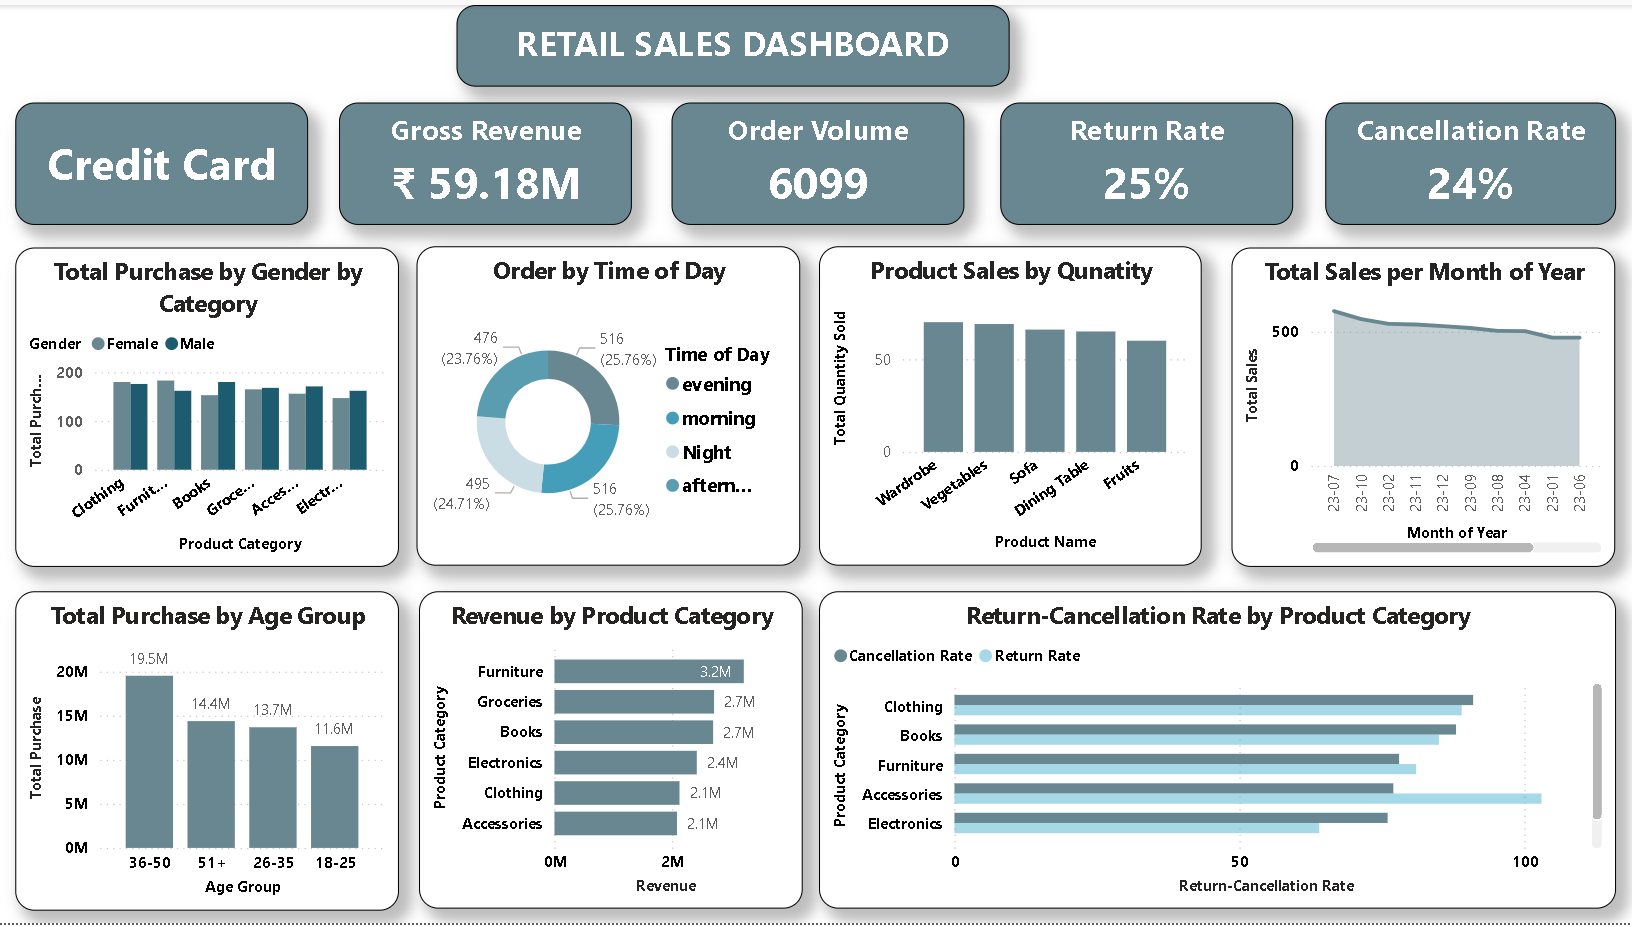

The page's visual inventory and layout, read from the dashboard file:
{"tool":"powerbi","page":{"name":"Retail Sales Dashboard","canvas":[1280,720],"ordinal":0},"visuals":[{"type":"textbox","box":[358.4,0,433.8,64],"z":0},{"type":"card","fields":{"Values":["Min(preferred_payment_mode.Column1)"]},"box":[12.5,76.5,229.6,96.1],"z":1000},{"type":"card","title":"Gross Revenue","fields":{"Values":["Sales_Analysis_dataset.Gross Revenue"]},"box":[267,76.5,229.6,96.1],"z":2000},{"type":"card","title":"Order Volume","fields":{"Values":["Sales_Analysis_dataset.ORDER VOLUME"]},"box":[526.8,76.5,229.6,96.1],"z":3000},{"type":"card","title":"Return Rate","fields":{"Values":["return_cancellation_rate_by_category.RETURN RATE"]},"box":[784.9,76.5,229.6,96.1],"z":4000},{"type":"card","title":"Cancellation Rate","fields":{"Values":["return_cancellation_rate_by_category.cancellation rate"]},"box":[1039.4,76.5,227.8,96.1],"z":5000},{"type":"clusteredColumnChart","title":"Total Purchase by Gender by Category","fields":{"Category":["purchasing_by_gender_by_category.product_category"],"Y":["Sum(purchasing_by_gender_by_category.total_purchase)"],"Series":["purchasing_by_gender_by_category.gender"]},"box":[12.5,190.4,300.8,250],"z":6000},{"type":"donutChart","title":"Order by Time of Day","fields":{"Category":["sales_by_time_of_the_date.time_of_date"],"Y":["Sum(sales_by_time_of_the_date.total_order)"]},"box":[327.5,188.7,300.8,250],"z":7000},{"type":"clusteredColumnChart","title":"Product Sales by Qunatity","fields":{"Category":["product_sales_by_qunatity.product_name"],"Y":["Sum(product_sales_by_qunatity.total_quantity_sold)"]},"box":[642.5,188.7,300,250],"z":8000},{"type":"lineChart","title":"Total Sales per Month of Year","fields":{"Category":["monthly_sales_trend.monthly_purchase"],"Y":["Sum(monthly_sales_trend.sum(quantity))"]},"box":[966.4,190.4,300.8,250],"z":9000},{"type":"clusteredColumnChart","title":"Total Purchase by Age Group","fields":{"Category":["purchasing_behaviour_by_age_group.age_group"],"Y":["Sum(purchasing_behaviour_by_age_group.total_purchase_by_age_group)"]},"box":[12.5,459.2,300.8,250],"z":10000},{"type":"clusteredBarChart","title":"Revenue by Product Category","fields":{"Category":["revenue_by_product_category.product_category"],"Y":["Sum(revenue_by_product_category.revenue)"]},"box":[329.3,459.2,300.8,249.2],"z":11000},{"type":"clusteredBarChart","title":"Return-Cancellation Rate by Product Category","fields":{"Category":["return_cancellation_rate_by_category.product_category"],"Y":["Sum(return_cancellation_rate_by_category.cancelled_orders)","Sum(return_cancellation_rate_by_category.returned_orders)"]},"box":[642.5,459.2,624.7,249.2],"z":12000}]}

Visuals, with their boxes in screenshot pixels (x1, y1, x2, y2), scaled from the page's 1280x720 canvas onto the 1632x927 screenshot:
textbox: <bbox>457, 0, 1010, 82</bbox>
card - Min(preferred_payment_mode.Column1): <bbox>16, 98, 309, 222</bbox>
"Gross Revenue" card: <bbox>340, 98, 633, 222</bbox>
"Order Volume" card: <bbox>672, 98, 964, 222</bbox>
"Return Rate" card: <bbox>1001, 98, 1293, 222</bbox>
"Cancellation Rate" card: <bbox>1325, 98, 1616, 222</bbox>
"Total Purchase by Gender by Category" clusteredColumnChart: <bbox>16, 245, 399, 567</bbox>
"Order by Time of Day" donutChart: <bbox>418, 243, 801, 565</bbox>
"Product Sales by Qunatity" clusteredColumnChart: <bbox>819, 243, 1202, 565</bbox>
"Total Sales per Month of Year" lineChart: <bbox>1232, 245, 1616, 567</bbox>
"Total Purchase by Age Group" clusteredColumnChart: <bbox>16, 591, 399, 913</bbox>
"Revenue by Product Category" clusteredBarChart: <bbox>420, 591, 803, 912</bbox>
"Return-Cancellation Rate by Product Category" clusteredBarChart: <bbox>819, 591, 1616, 912</bbox>
